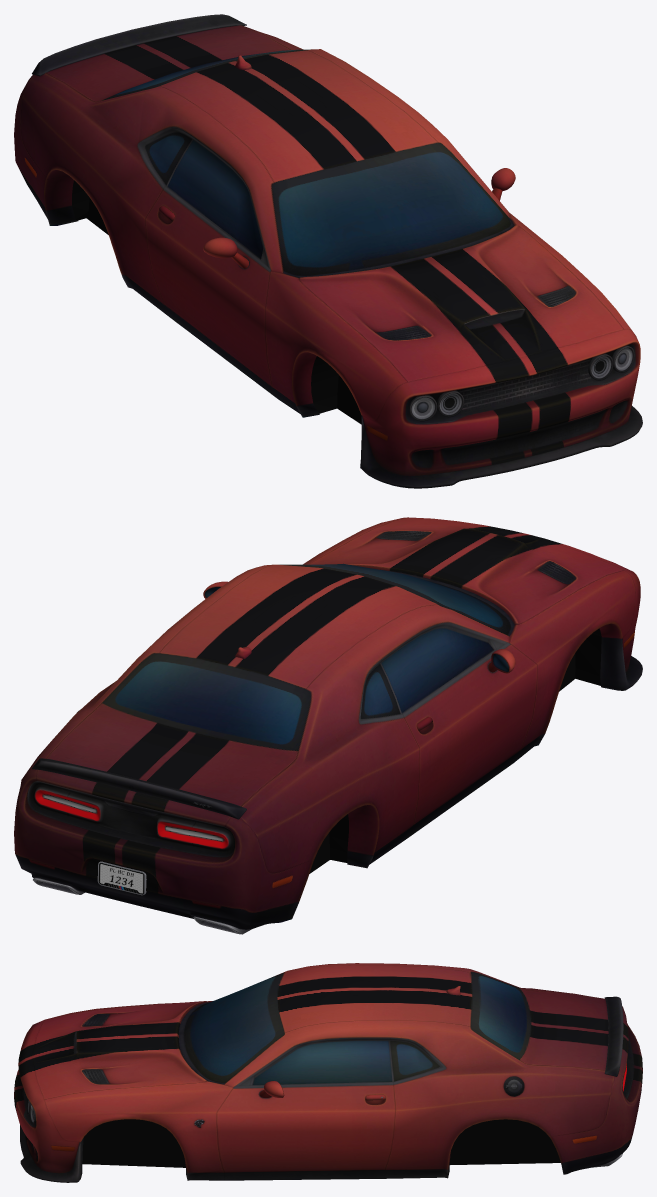
Rendered from car 7.fbx.
3 renders of one model, top to bottom at view 1: azimuth 30°, elevation 25°; view 2: azimuth 150°, elevation 25°; view 3: azimuth 270°, elevation 25°, orthographic. The views are drawn at different scales.
Visible parts, largest first — view 1: car; view 2: car; view 3: car.
Boxes of the visible parts, x1=… form: car: x1=14, y1=14, x2=642, y2=488; car: x1=14, y1=517, x2=642, y2=934; car: x1=14, y1=963, x2=642, y2=1182.
Bounding box in the file's own units: 332 × 207 × 778.
1 material, 1 textured.
